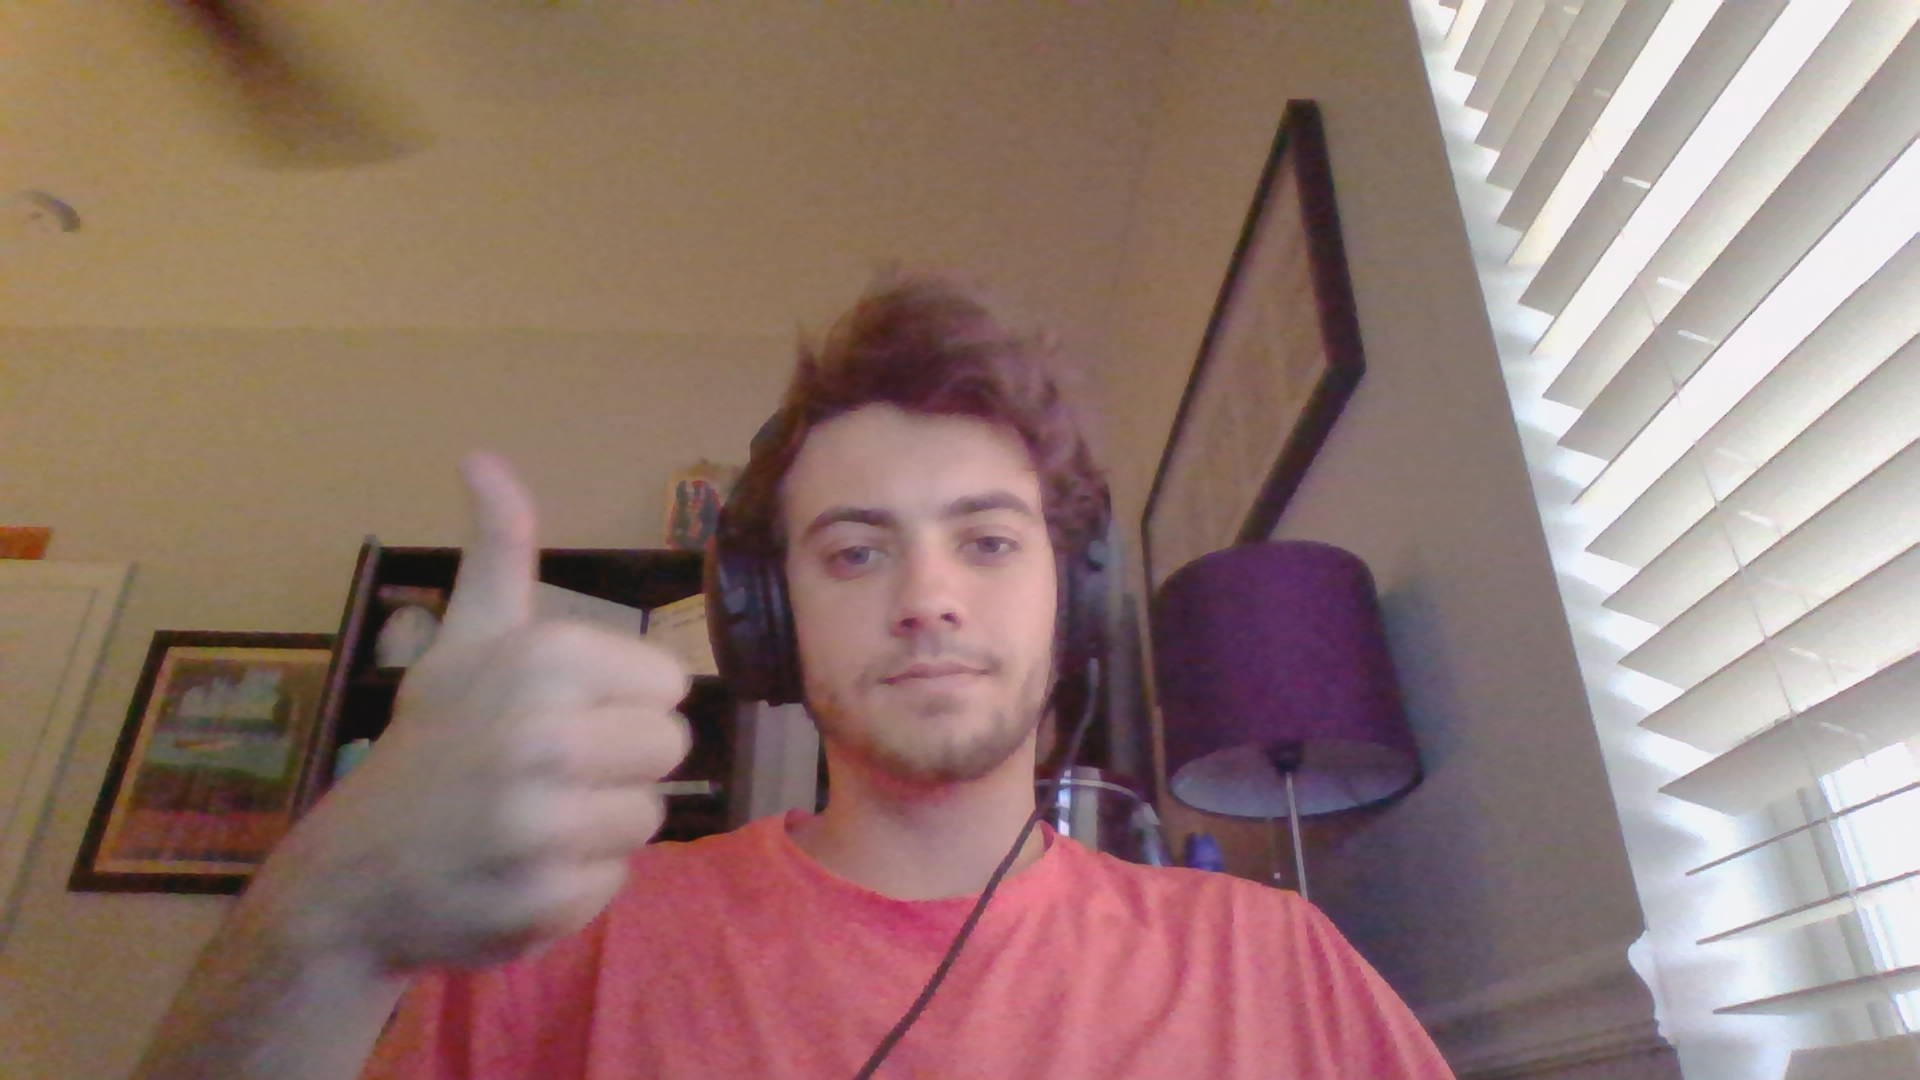Right Thumb Up: (334, 446, 703, 980)
